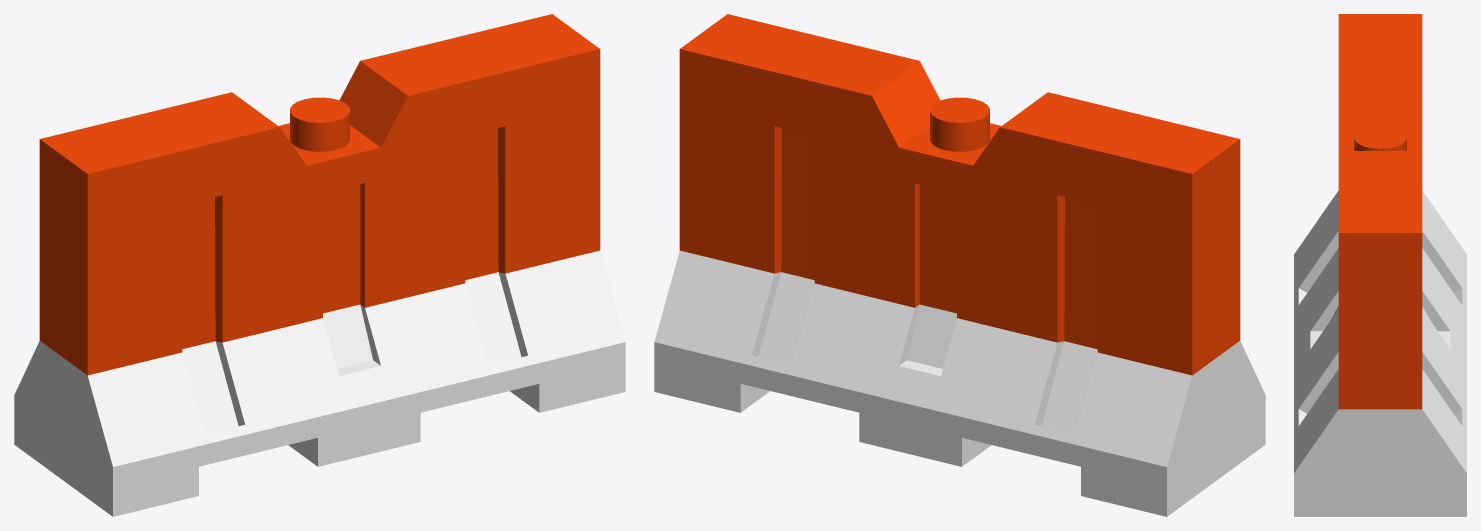
The model's file is Cones_A.fbx.
3 renders of one model, left to right at view 1: azimuth 30°, elevation 25°; view 2: azimuth 150°, elevation 25°; view 3: azimuth 270°, elevation 25°, orthographic. The views are drawn at different scales.
Visible parts, largest first — view 1: Cones_A; view 2: Cones_A; view 3: Cones_A.
Boxes of the visible parts, left/top/right/bottom form: Cones_A: left=14, top=14, right=625, bottom=516; Cones_A: left=654, top=14, right=1265, bottom=516; Cones_A: left=1294, top=14, right=1466, bottom=516.
Bounding box in the file's own units: 38.58 × 23.33 × 12.86.
